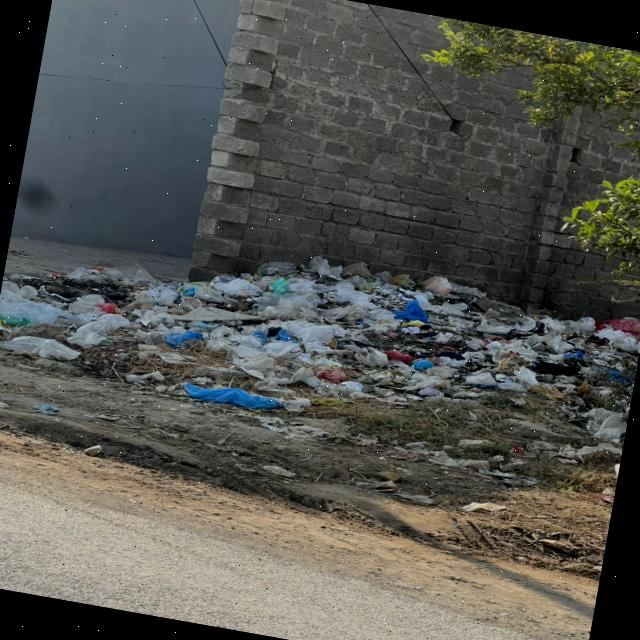garbage: (237, 253, 638, 456), (0, 244, 243, 407)
